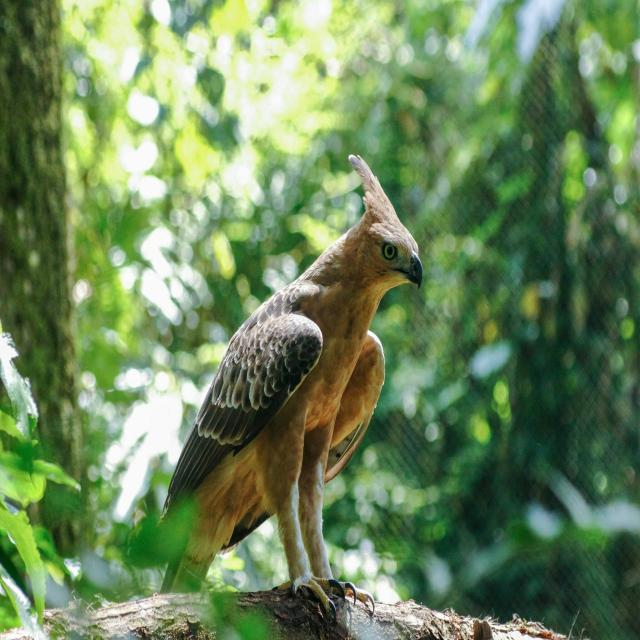Elang Jawa: (123, 104, 448, 640)
